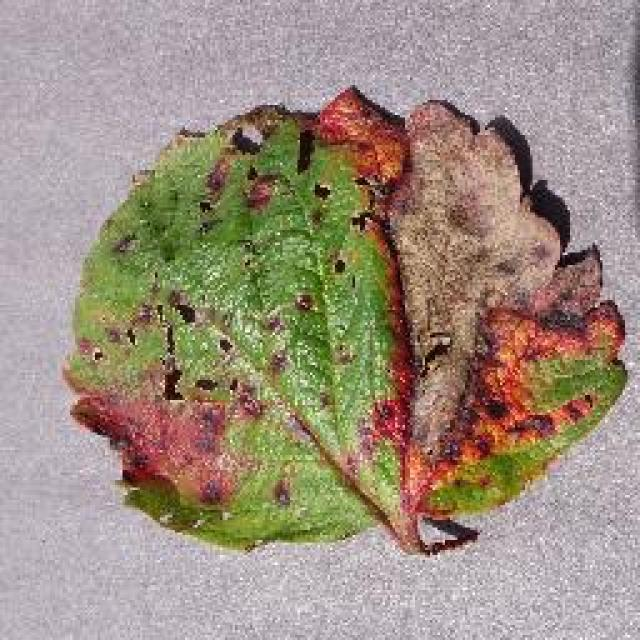Strawberry leaf scorch: (109, 133, 584, 517)
